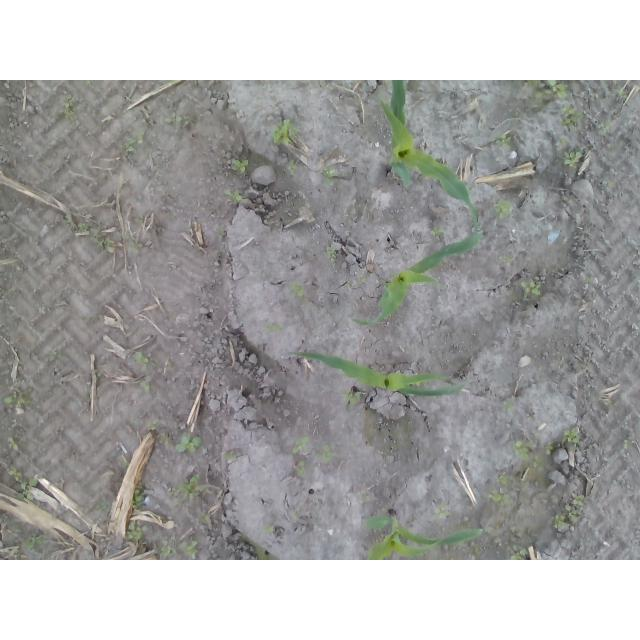Maize: (379, 80, 480, 230), (350, 232, 482, 329), (287, 350, 470, 398), (366, 506, 487, 560)
Weeds: (552, 494, 584, 531), (512, 440, 555, 467), (8, 466, 37, 503), (486, 474, 514, 507), (537, 80, 568, 106), (170, 472, 201, 497), (1, 384, 33, 408), (272, 118, 300, 144), (561, 103, 584, 129), (175, 434, 201, 455), (121, 131, 144, 154), (519, 278, 545, 298), (559, 151, 583, 170), (22, 532, 47, 550), (155, 539, 177, 559), (131, 416, 160, 431), (125, 520, 144, 541), (95, 225, 113, 247), (495, 199, 513, 221), (163, 112, 189, 127), (345, 273, 368, 289), (314, 448, 335, 465), (293, 435, 311, 453), (561, 426, 579, 444), (183, 540, 199, 560), (130, 487, 144, 509), (288, 279, 305, 297), (509, 544, 528, 560), (264, 319, 285, 333), (62, 95, 74, 118), (134, 350, 151, 366), (433, 505, 451, 520), (495, 510, 510, 528), (323, 165, 337, 184), (232, 158, 249, 173), (225, 189, 243, 203), (128, 241, 145, 255), (344, 388, 361, 402), (600, 120, 613, 137), (496, 135, 513, 148), (295, 459, 306, 477), (287, 159, 298, 177), (6, 435, 19, 449), (223, 451, 241, 460), (431, 227, 445, 238), (259, 523, 274, 533), (328, 245, 336, 263), (502, 399, 512, 413), (359, 496, 370, 507), (143, 383, 155, 393), (603, 399, 615, 408), (47, 351, 63, 357), (94, 371, 102, 383), (134, 215, 144, 224), (80, 223, 89, 233), (528, 80, 539, 88), (559, 136, 570, 144), (616, 87, 624, 97), (623, 439, 630, 450), (81, 80, 96, 84), (507, 255, 514, 262)
